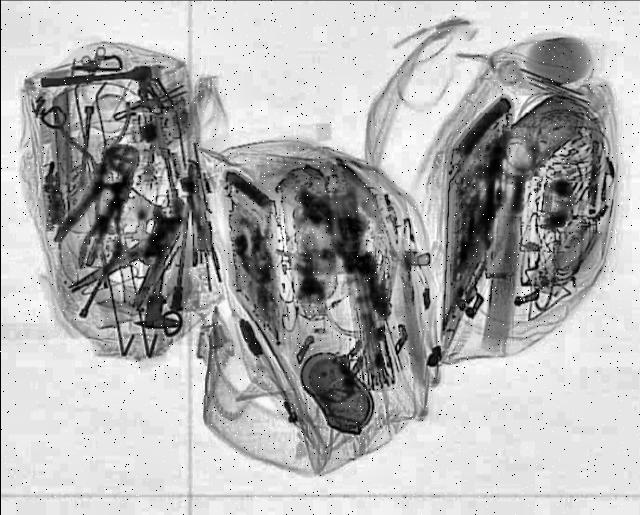Pliers: (48, 138, 152, 256), (72, 194, 136, 276)
